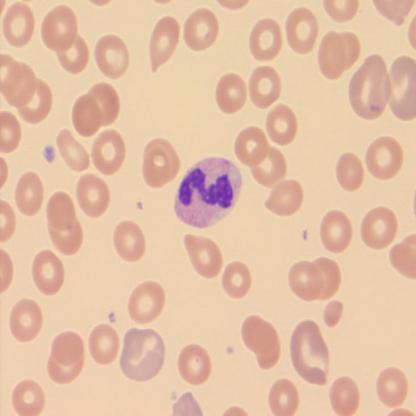Segmented neutrophil: (172, 155, 243, 228)
